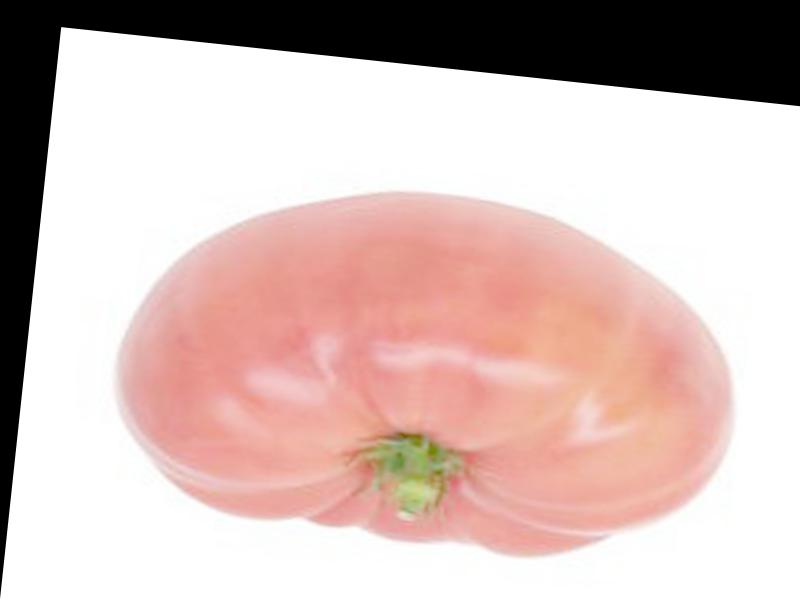Tomato: (103, 165, 754, 570)
